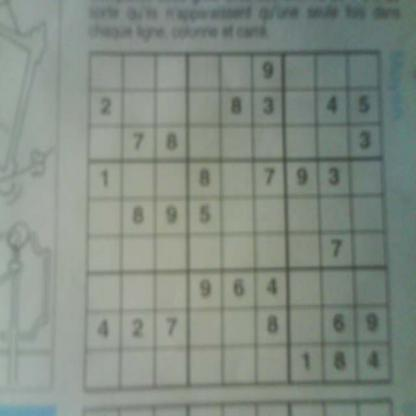sudoku: (79, 43, 397, 398)
